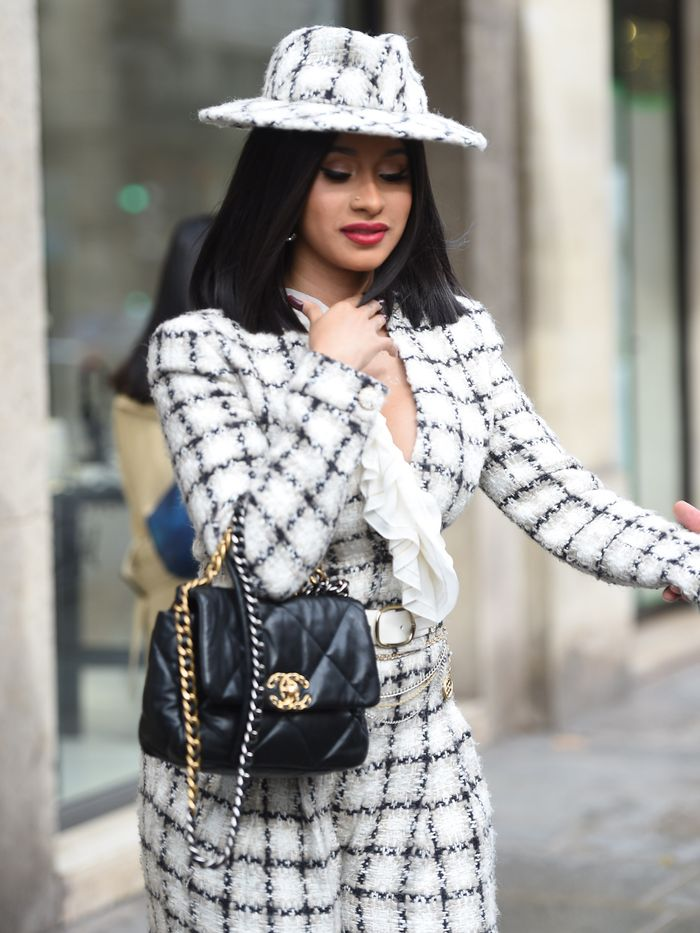channel: (112, 572, 377, 807), (256, 661, 325, 713)
